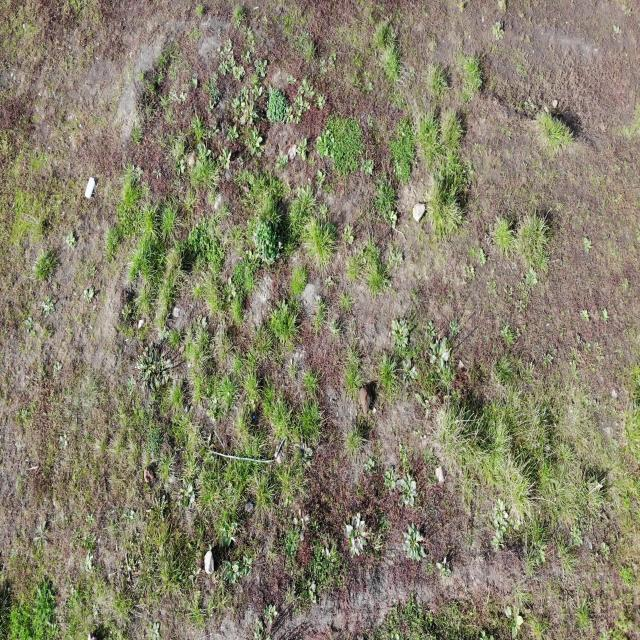rubbish: (203, 552, 214, 575), (83, 177, 95, 198)
